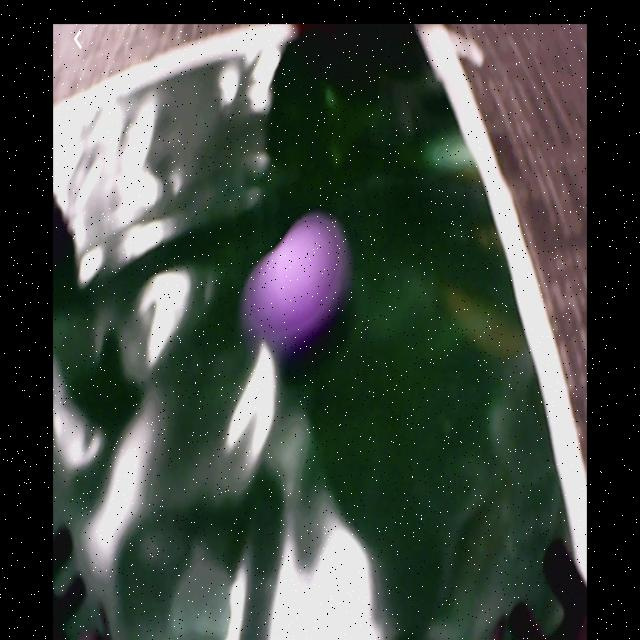ball: (257, 219, 340, 341)
